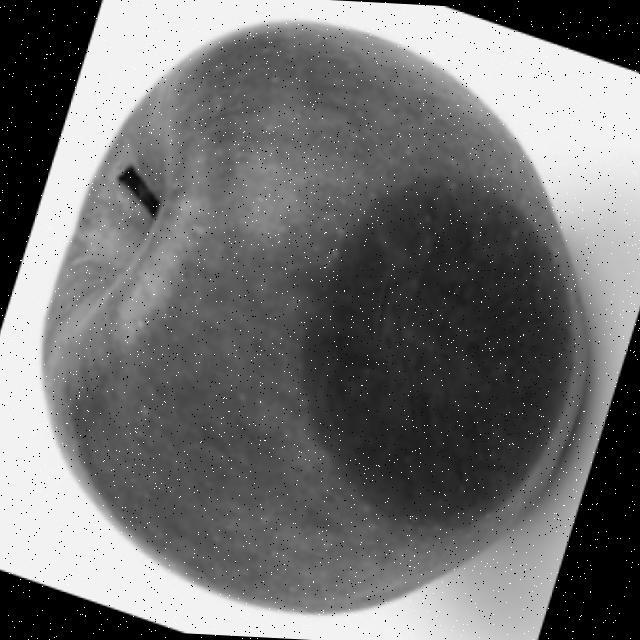Rotten: (20, 1, 608, 632)
